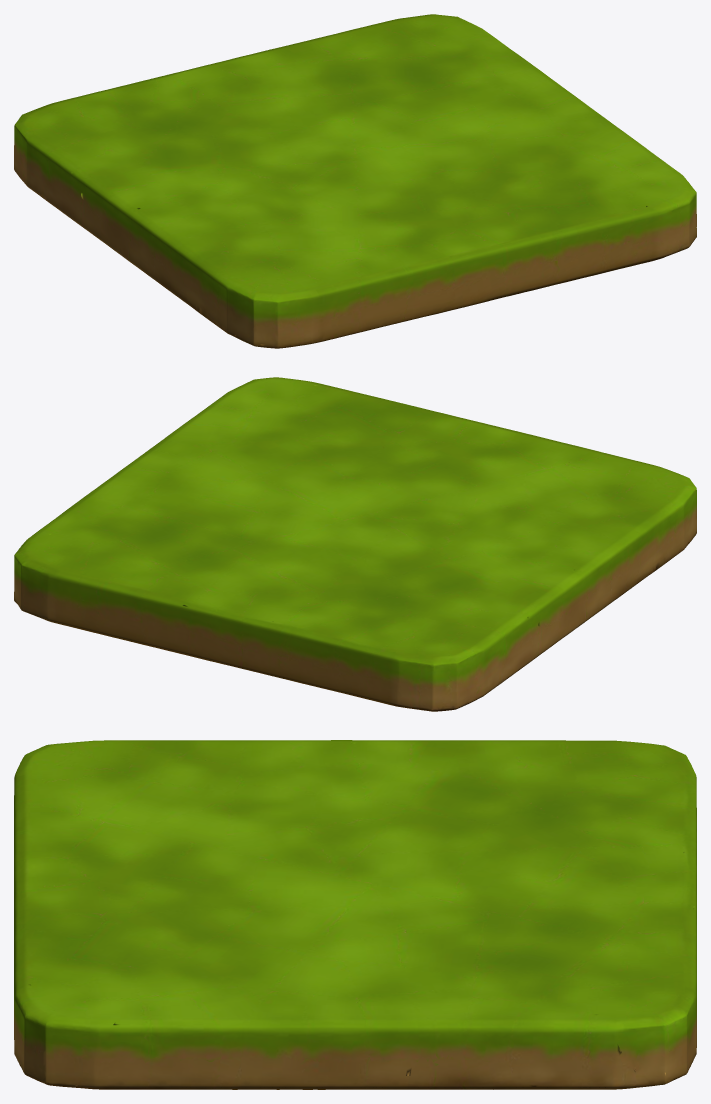
File: t_Green_Tile_of_Grass.glb
3 views of the same model, one above another, from view 1: azimuth 30°, elevation 25°; view 2: azimuth 150°, elevation 25°; view 3: azimuth 270°, elevation 25° (orthographic). The views are drawn at different scales.
Size of the model in its own units: 2 by 0.2269 by 2.
1 material, 1 textured.
